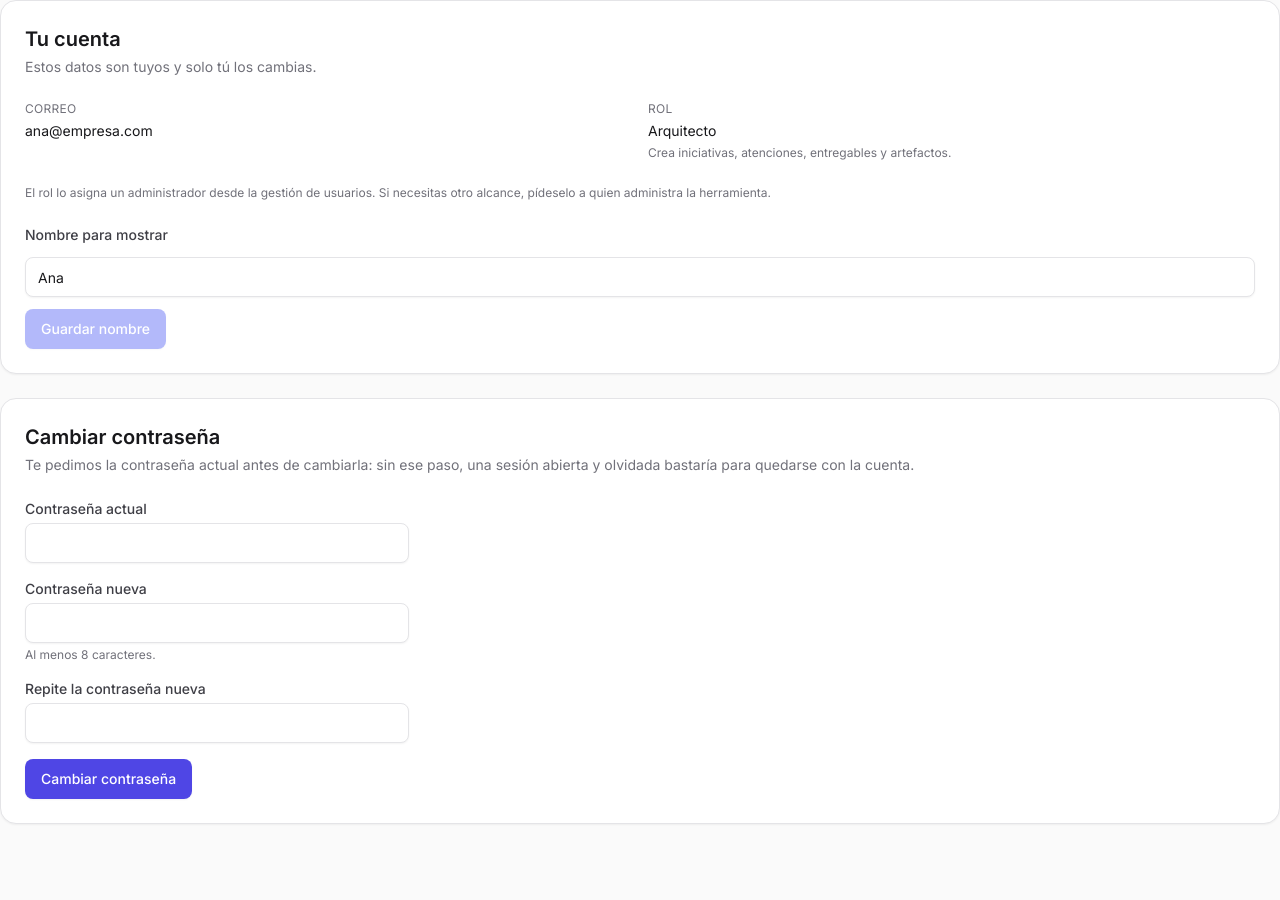
Test case: changing the display name › is disabled until the name actually changes
The image size is (1280, 900).
Expected: the button "Guardar nombre" is disabled, [25,309,166,349]
Replace the text in the field labelled "Nombre para mostrar" with "Ana Torres" at [640, 277], box [25,257,1255,297]
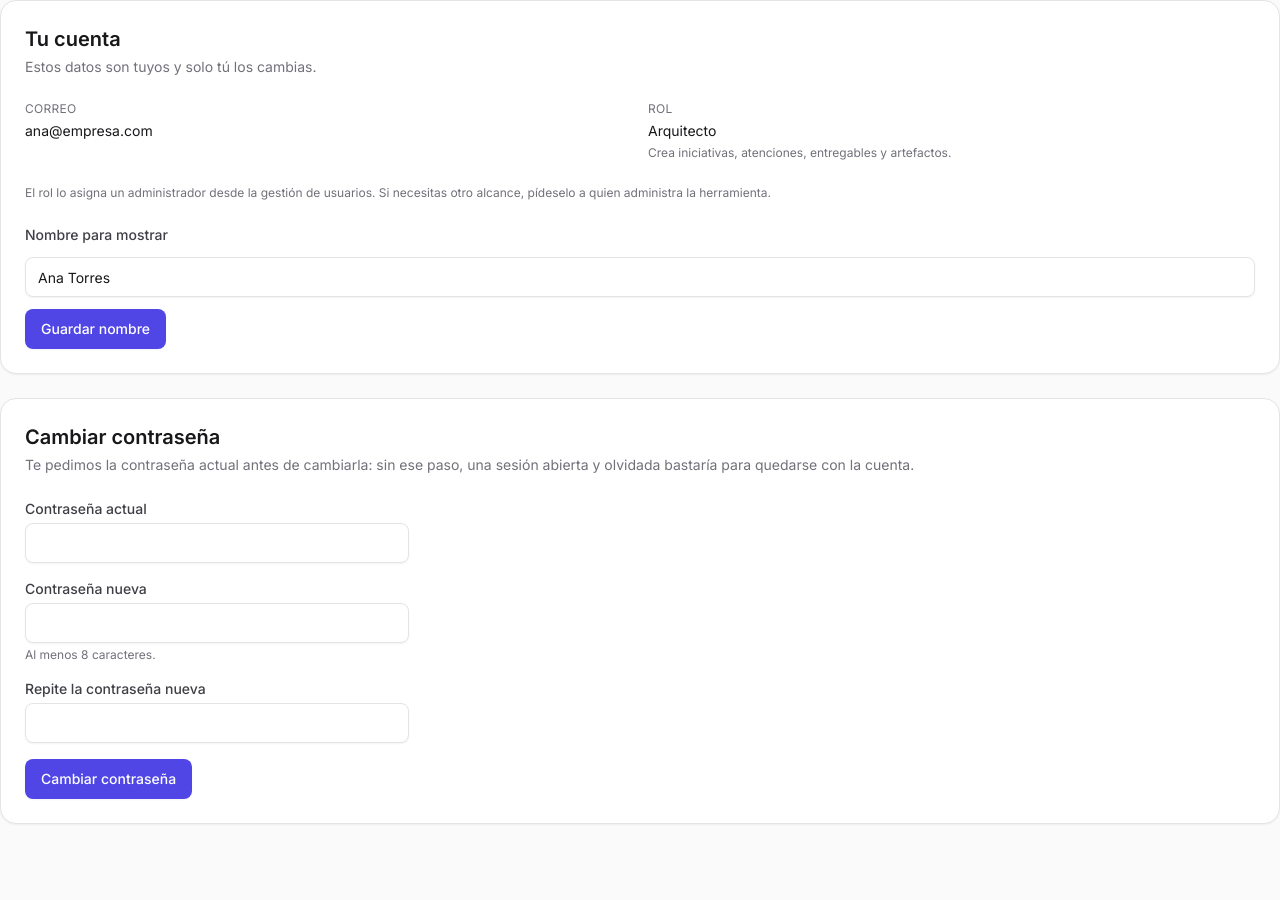
Expected: the button "Guardar nombre" is enabled, [25,309,166,349]
